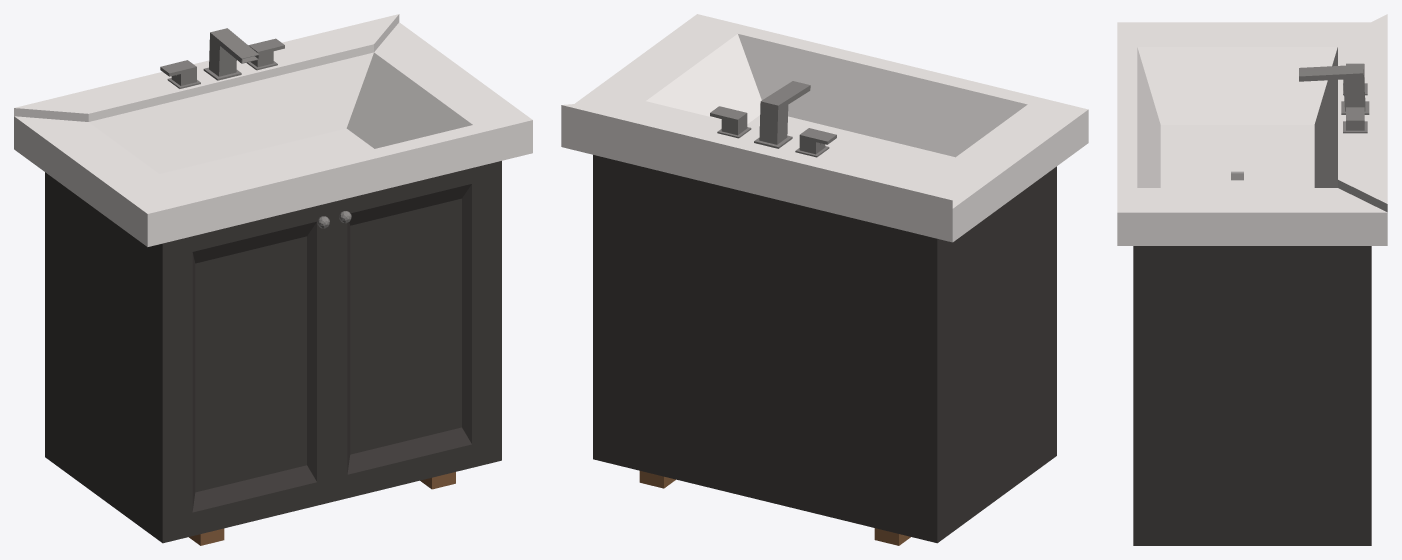
Rendered from Shower Table_03.fbx.
3 renders of one model, left to right at view 1: azimuth 30°, elevation 25°; view 2: azimuth 150°, elevation 25°; view 3: azimuth 270°, elevation 25°, orthographic.
Visible parts, largest first — view 1: Shower Table_03; view 2: Shower Table_03; view 3: Shower Table_03.
Part boxes in pixels (left/top/right/bottom): Shower Table_03: left=14, top=14, right=532, bottom=545; Shower Table_03: left=561, top=14, right=1088, bottom=545; Shower Table_03: left=1117, top=14, right=1387, bottom=545.
Bounding box in the file's own units: 101 × 101 × 60.5.
